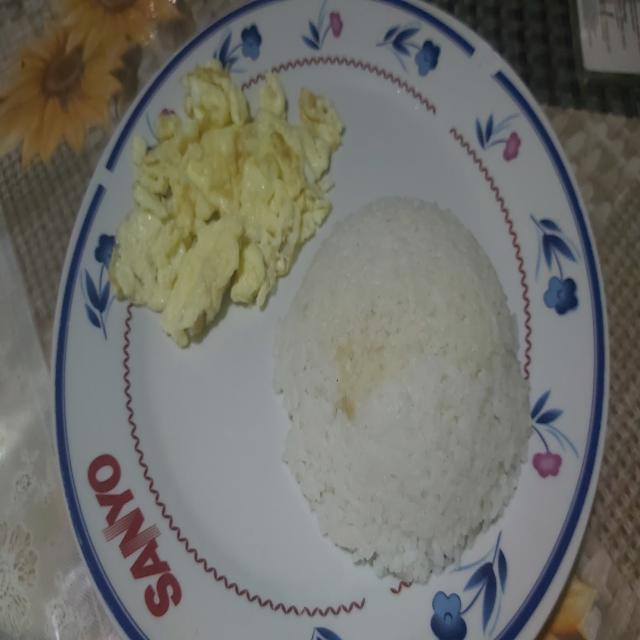Chicken -Chicken Inasal-: (283, 193, 526, 567)
